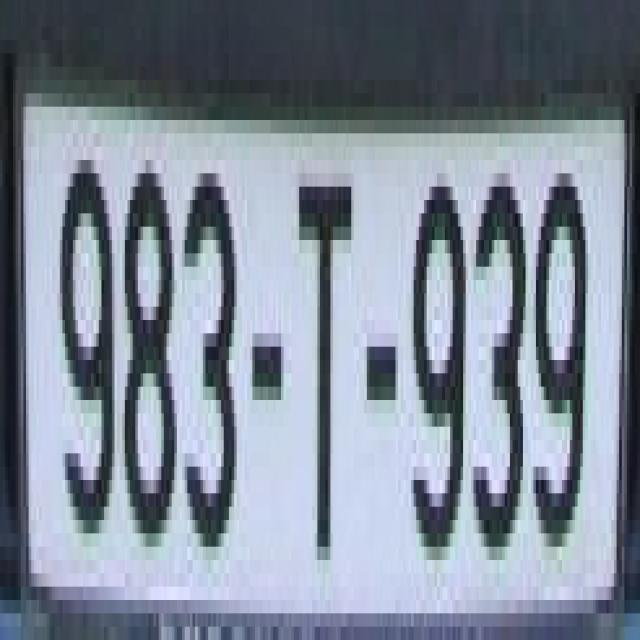3: (180, 120, 237, 560), (474, 173, 526, 560)
8: (120, 147, 177, 533)
9: (523, 160, 588, 573), (57, 134, 117, 534), (411, 160, 461, 560)
T: (294, 173, 351, 560)
